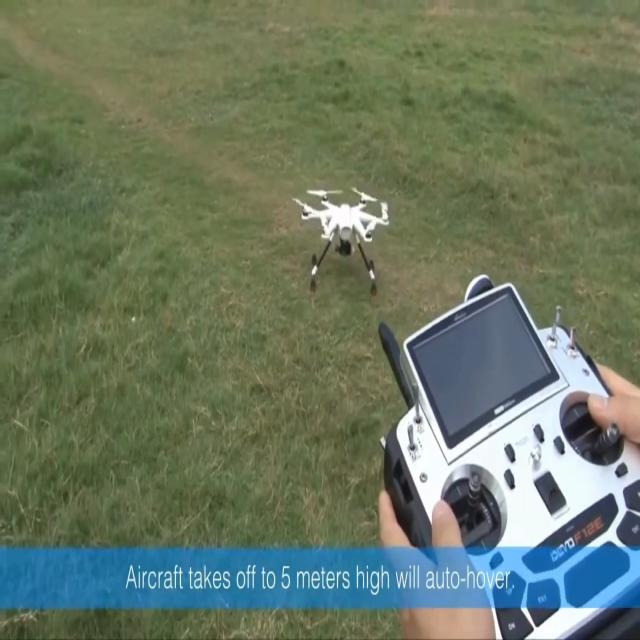drone: (291, 186, 389, 297)
